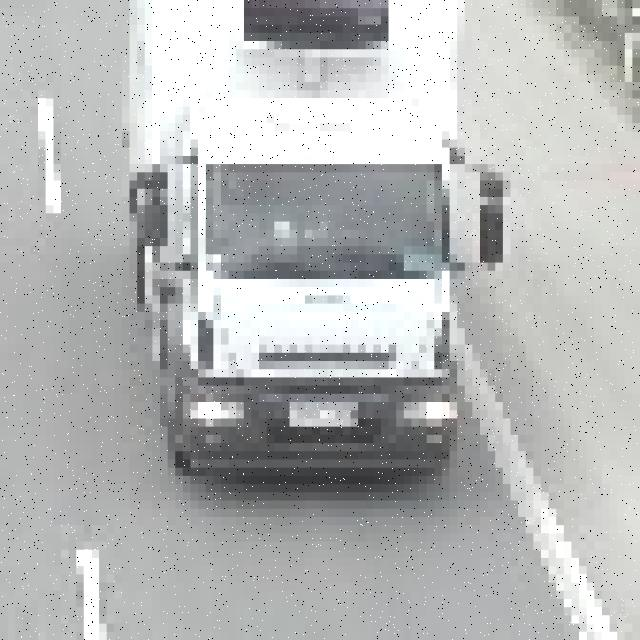truck: (107, 0, 495, 476)
